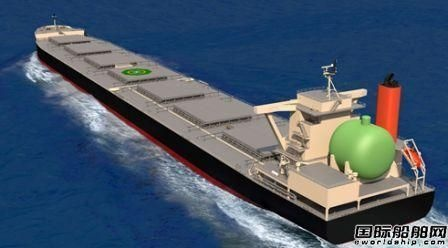Cargoship: (30, 11, 438, 246)
